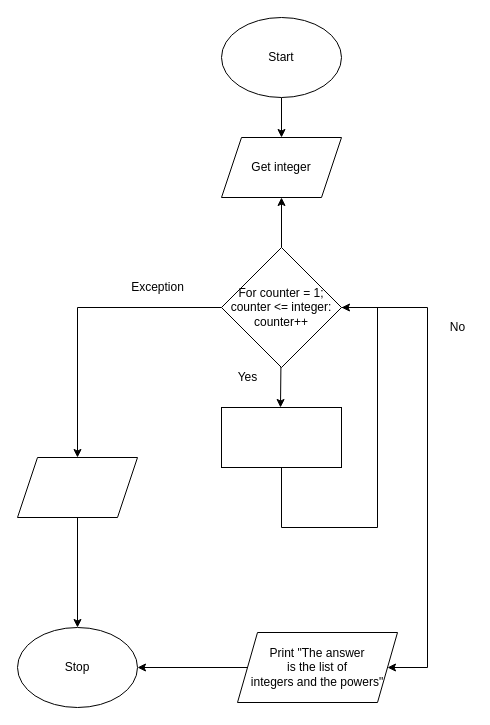
Image size: 490x725. Some labels were removed from this diagram. The box of each missing label's shape, as (x1, y1, x2, y2) in pixels:
Print "This is not an integer": (16, 456, 138, 518)
Square = counter ** 2: (220, 406, 342, 468)
